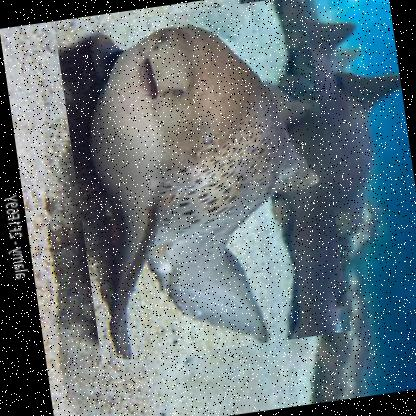zebra_shark: (53, 0, 351, 365)
